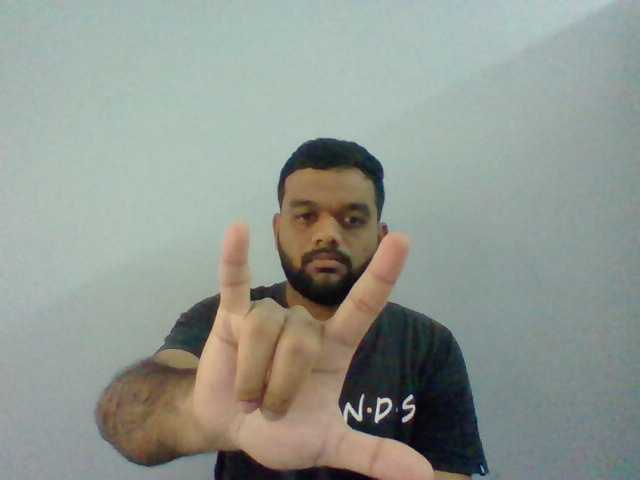I love you: (201, 217, 440, 480)
